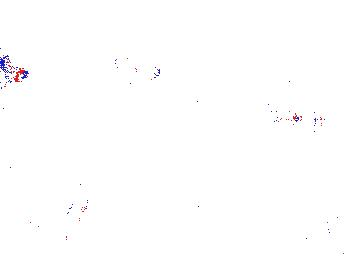glassfish: (68, 160, 104, 225)
red belly glassfish: (251, 110, 302, 131)
redtail glassfish: (110, 49, 161, 87), (1, 45, 30, 86)
